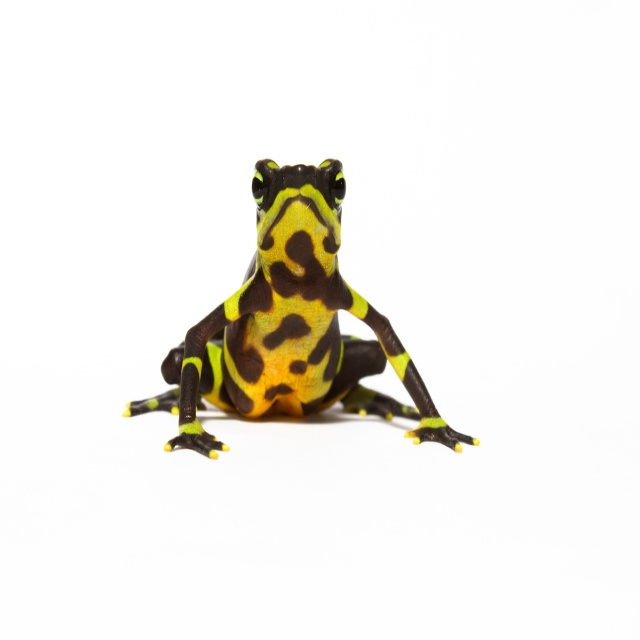Frog: (122, 154, 478, 460)
